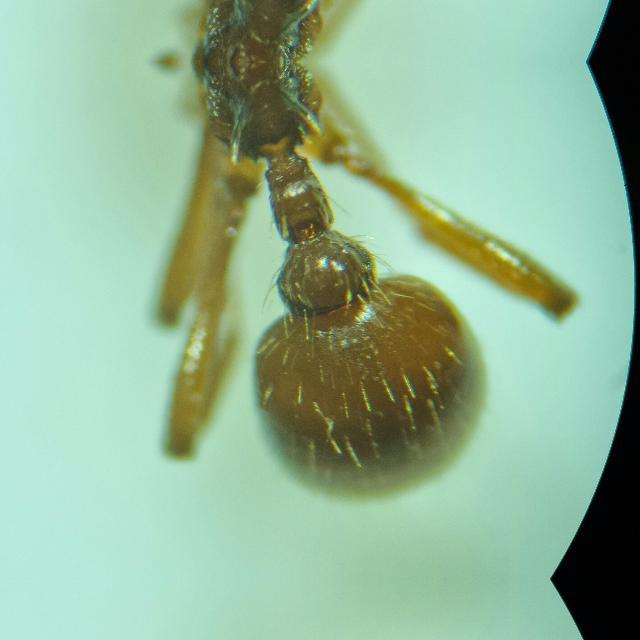Myrmica: (33, 61, 569, 519)
